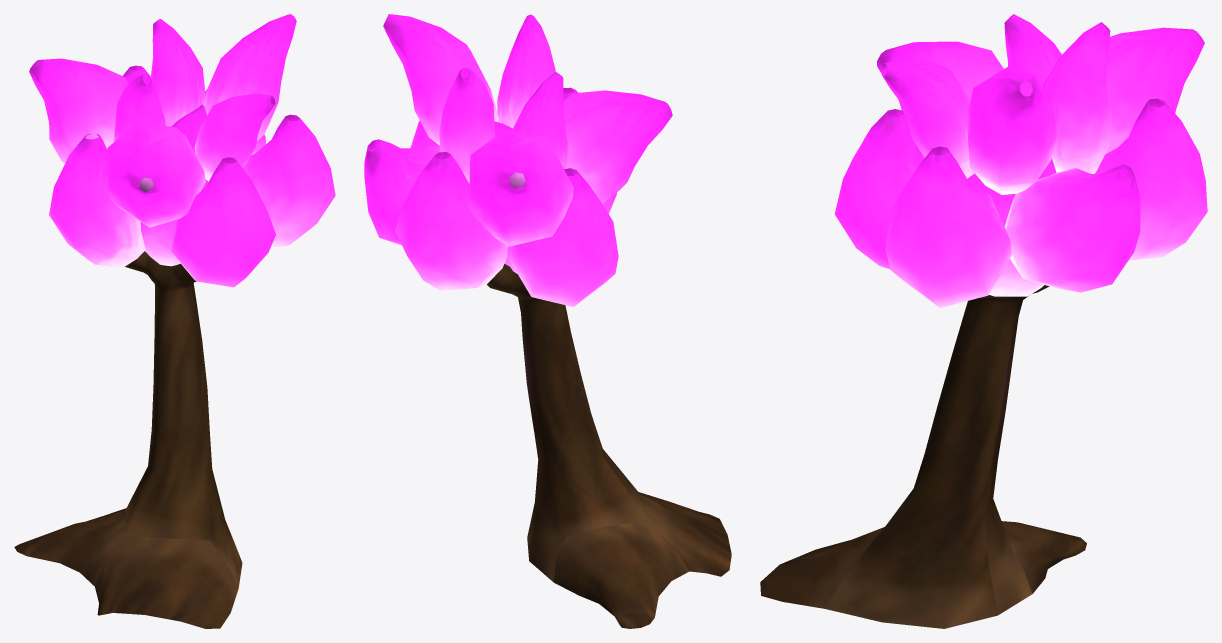
Rendered from Arvore2.fbx.
3 renders of one model, left to right at view 1: azimuth 30°, elevation 25°; view 2: azimuth 150°, elevation 25°; view 3: azimuth 270°, elevation 25°, orthographic. The views are drawn at different scales.
Parts seen in each view (by area): view 1: LOD_0; view 2: LOD_0; view 3: LOD_0.
Part boxes in pixels (x1,y1,x2,y2): LOD_0: [14, 14, 335, 628]; LOD_0: [364, 14, 731, 628]; LOD_0: [760, 14, 1207, 628].
Size of what is drawn, in the model's own units: 502 by 915 by 591.
